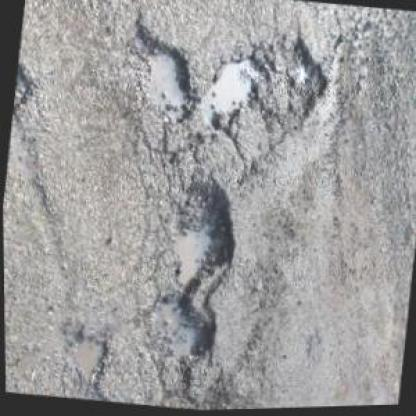pothole: (157, 175, 247, 302), (119, 25, 204, 132), (198, 48, 273, 148), (138, 290, 224, 373), (276, 35, 336, 123), (57, 324, 115, 387), (12, 60, 39, 115)
